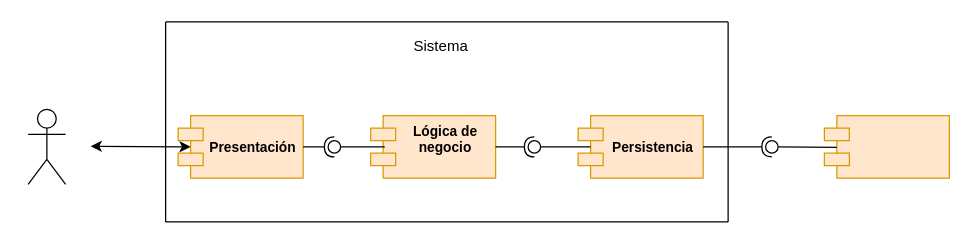
Image size: 971x245. Some labels were removed from this diagram. The box of each missing label's shape, as (x1, y1, x2, y2) in pixels:
SGBD: (823, 114, 949, 178)
Usuario: (27, 108, 66, 184)
